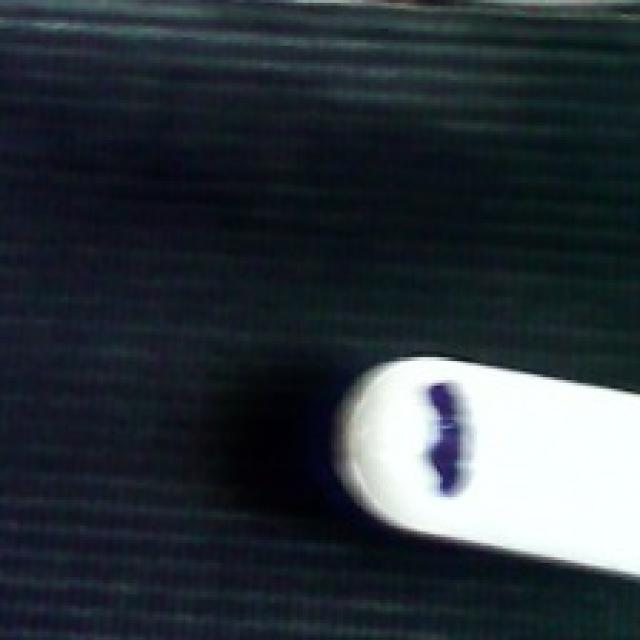defected: (320, 346, 637, 568)
